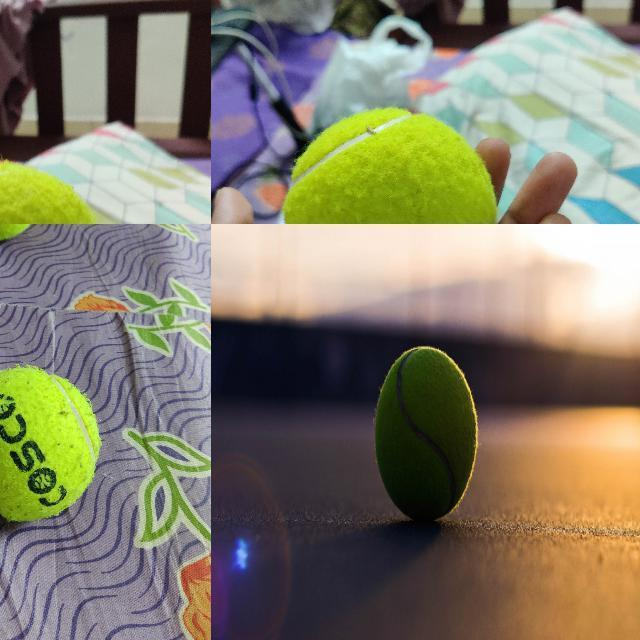tennis-ball: (281, 104, 498, 223), (374, 345, 478, 520), (0, 365, 102, 521)
